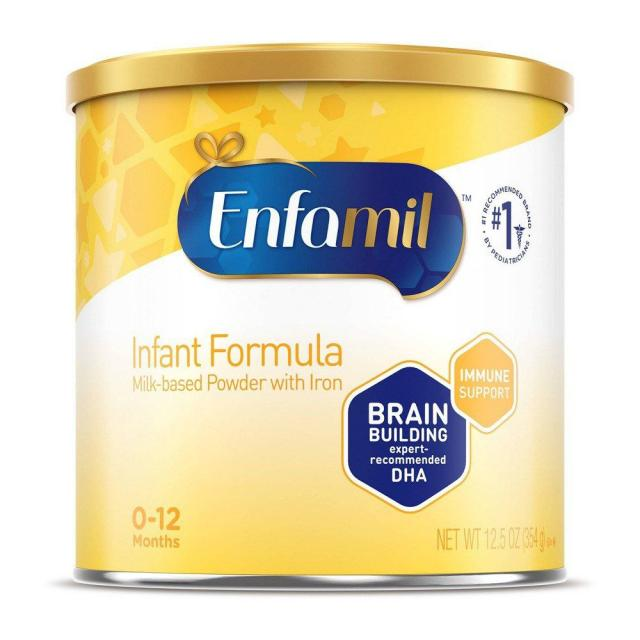formula-milk: (74, 90, 556, 586)
